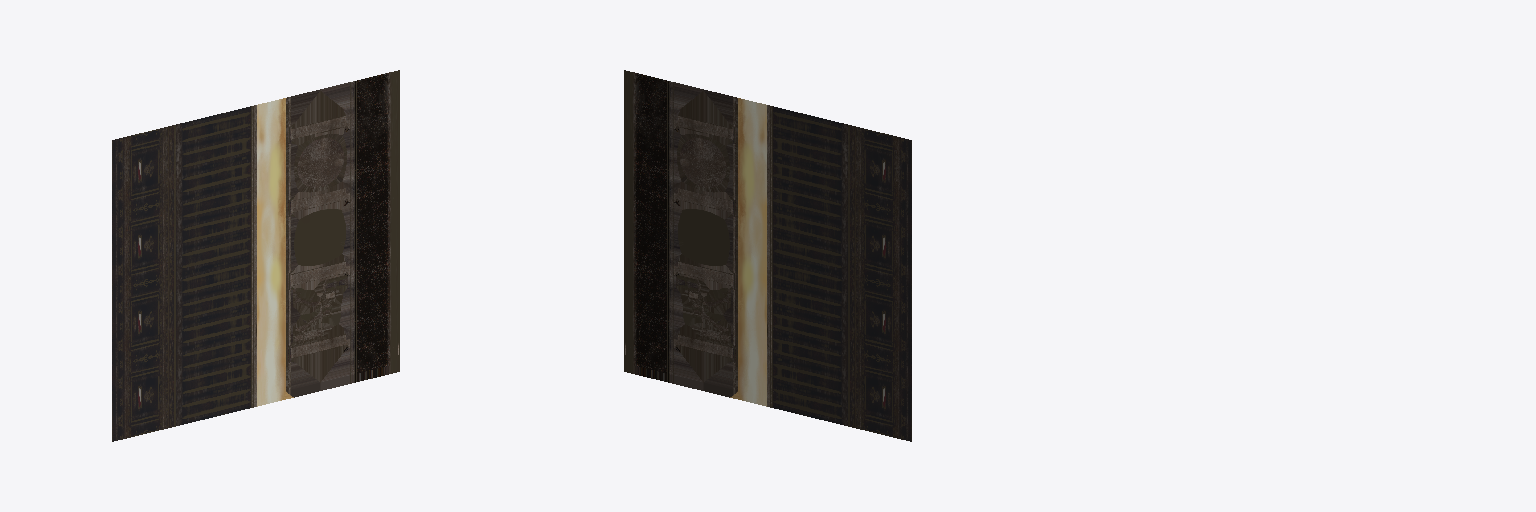
The picture shows the model from 3 angles: view 1: azimuth 30°, elevation 25°; view 2: azimuth 150°, elevation 25°; view 3: azimuth 270°, elevation 25°; orthographic projection.
Visible parts, largest first — view 1: grass001_lambert1_0_Mesh; view 2: grass001_lambert1_0_Mesh; view 3: none.
Part boxes in pixels (x1,y1,x2,y2): grass001_lambert1_0_Mesh: (112, 70, 399, 441); grass001_lambert1_0_Mesh: (624, 70, 911, 441).
Size of the model in its own units: 4 by 4 by 0.
1 materials, 1 textured.